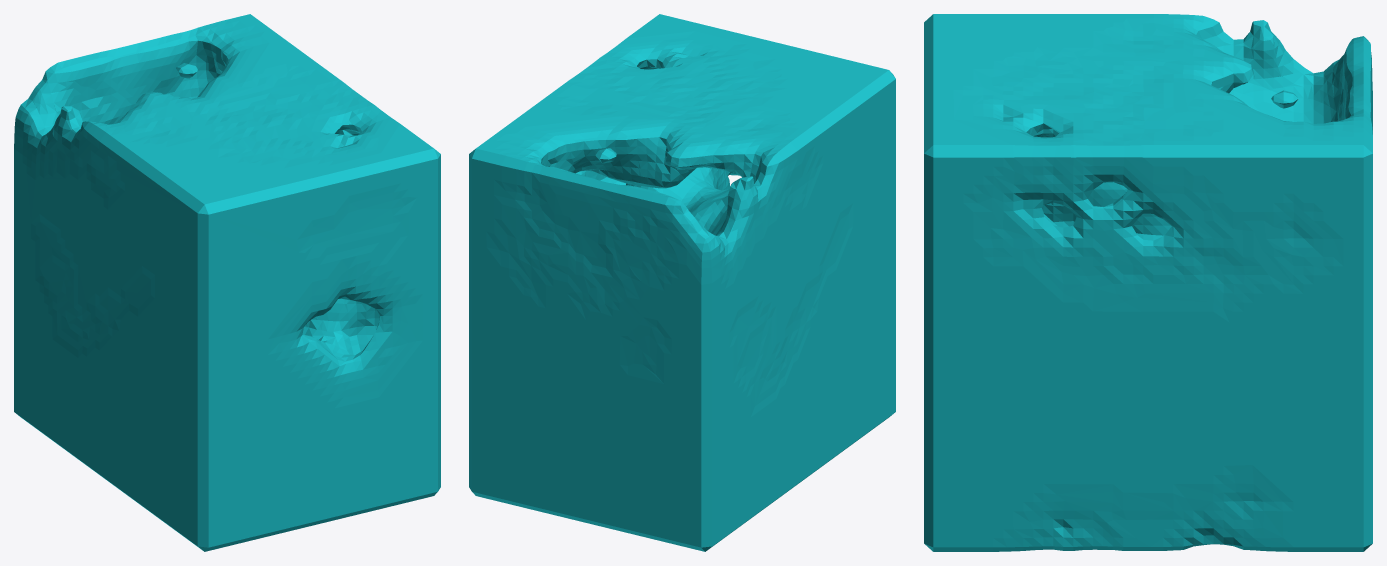
3 views of the same model, side by side, from view 1: azimuth 30°, elevation 25°; view 2: azimuth 150°, elevation 25°; view 3: azimuth 270°, elevation 25° (orthographic). The views are drawn at different scales.
Visible parts, largest first — view 1: Liquid_Domain; view 2: Liquid_Domain; view 3: Liquid_Domain.
Part boxes in pixels (x1,y1,x2,y2): Liquid_Domain: (14,14,440,551); Liquid_Domain: (469,14,895,551); Liquid_Domain: (924,14,1372,551).
Bounding box in the file's own units: 79.09 × 108 × 108.
